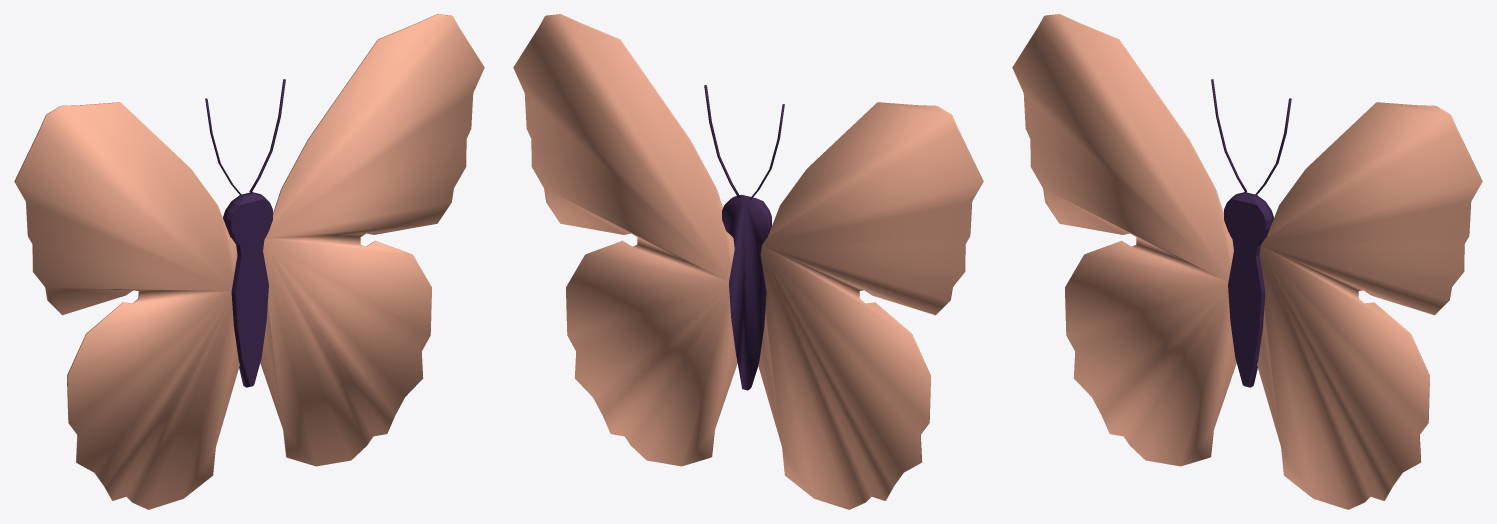
File: borboleta.fbx
3 renders of one model, left to right at view 1: azimuth 30°, elevation 25°; view 2: azimuth 150°, elevation 25°; view 3: azimuth 330°, elevation 25°, orthographic.
Visible parts, largest first — view 1: Cube.002; view 2: Cube.002; view 3: Cube.002.
Boxes of the visible parts, x1,y1,x2,y2 form: Cube.002: [14, 14, 484, 509]; Cube.002: [513, 14, 983, 509]; Cube.002: [1012, 14, 1482, 509].
Bounding box in the file's own units: 0.2205 × 0.1905 × 0.00582.
